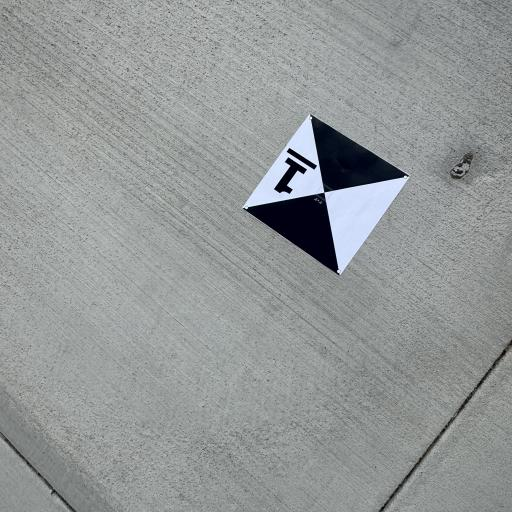target1: (230, 106, 418, 288)
